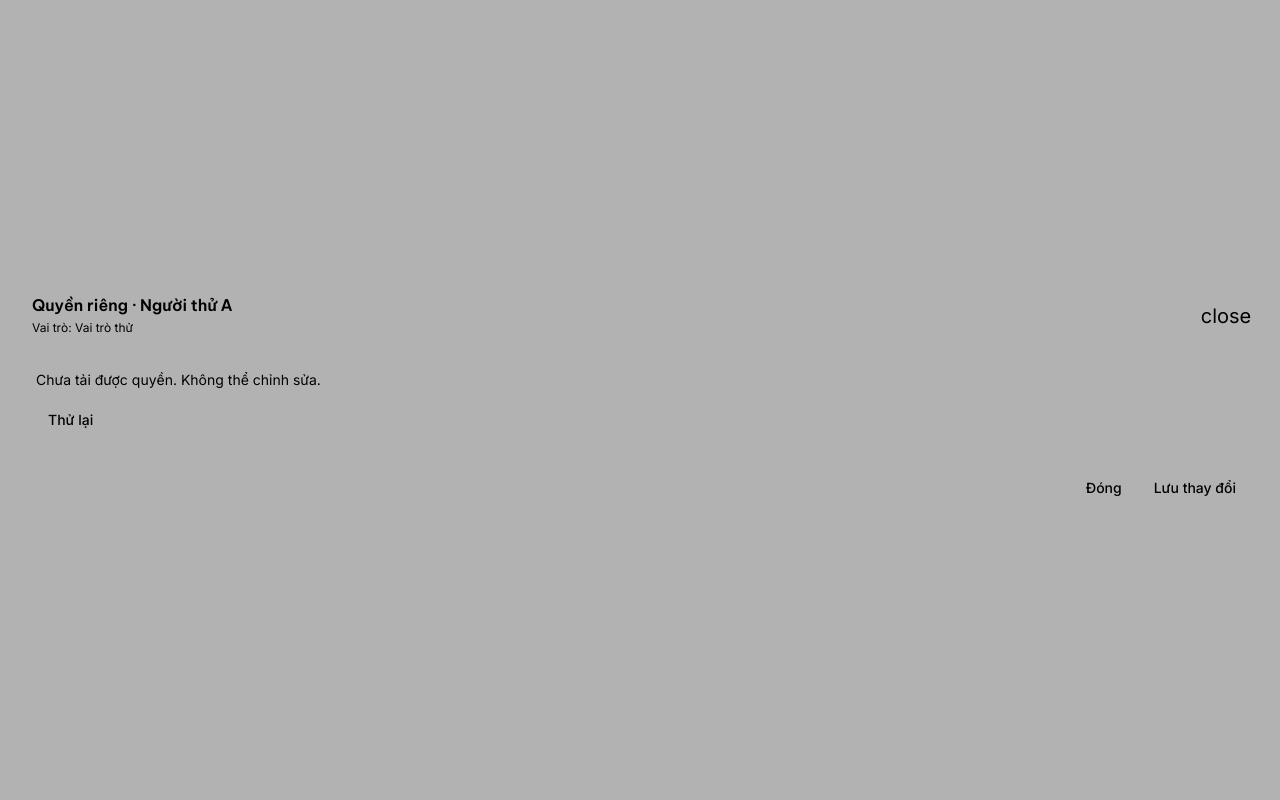
per-user permission editor › shows a blocking error and retry when role data fails
expect the message shows "Chưa tải được quyền": met, box [36,371,321,388]
expect the button "Lưu thay đổi" is disabled: met, box [1142,470,1248,506]
Click the button "Thử lại" at (71, 420), box [36,402,105,438]
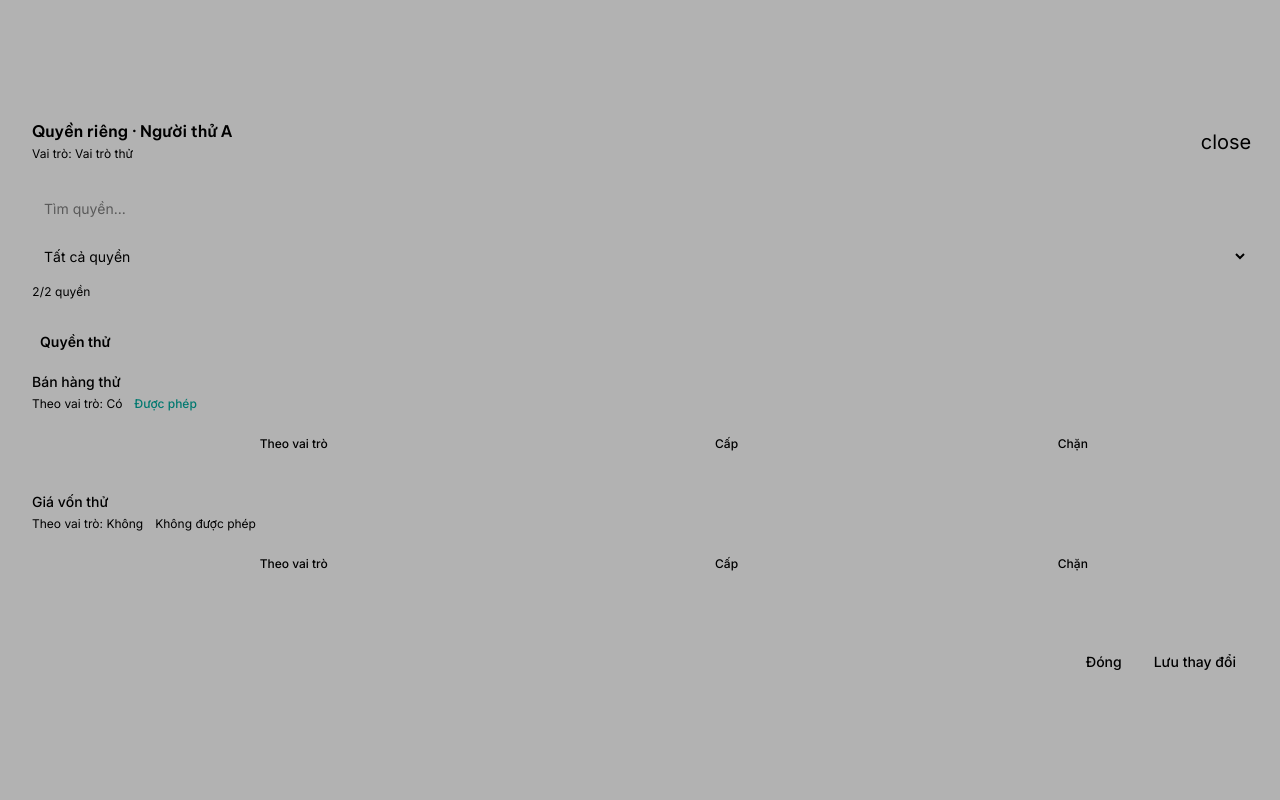
expect the element named "Bán hàng thử" is shown: met, box [260,436,1088,451]
